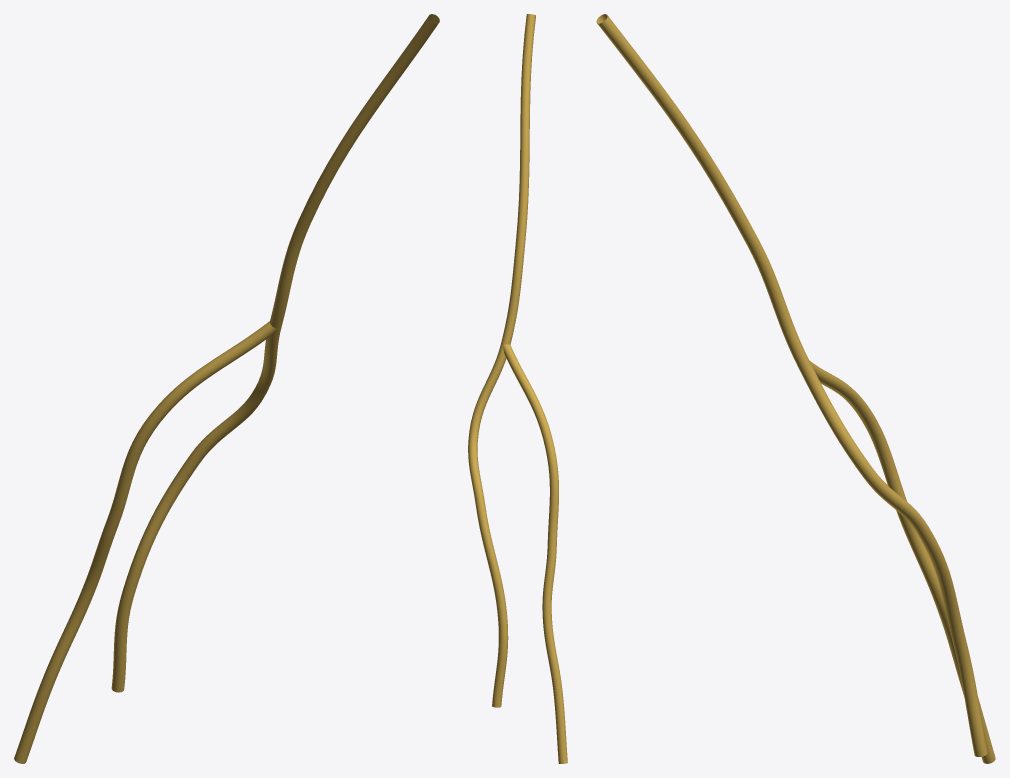
3 renders of one model, left to right at view 1: azimuth 30°, elevation 25°; view 2: azimuth 150°, elevation 25°; view 3: azimuth 270°, elevation 25°, orthographic. The views are drawn at different scales.
Visible parts, largest first — view 1: 右侧腓深神经趾背神经; view 2: 右侧腓深神经趾背神经; view 3: 右侧腓深神经趾背神经.
Part boxes in pixels (x1,y1,x2,y2): 右侧腓深神经趾背神经: [14, 14, 439, 763]; 右侧腓深神经趾背神经: [468, 14, 567, 763]; 右侧腓深神经趾背神经: [596, 14, 995, 763].
Bounding box in the file's own units: 0.0317 × 0.1046 × 0.0439.
